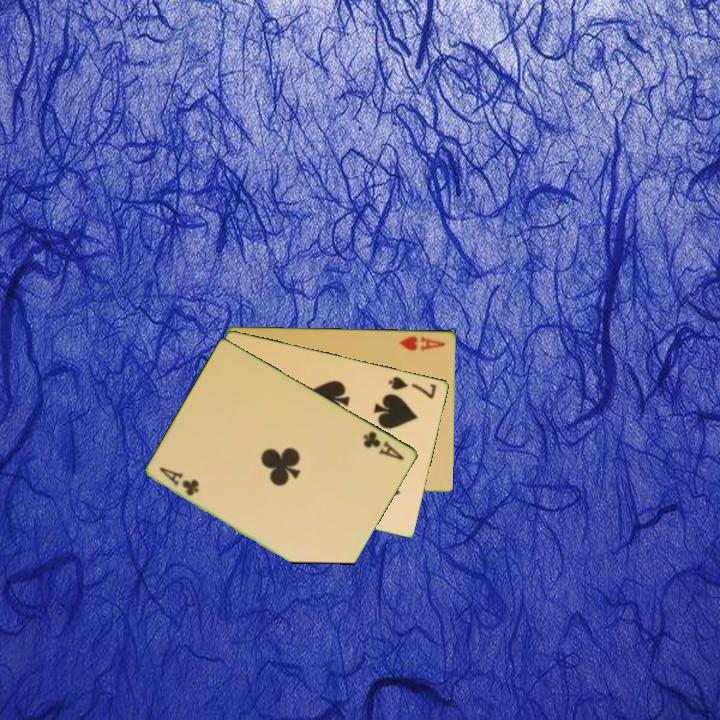7s: (385, 372, 439, 402)
Ac: (360, 427, 407, 463), (156, 463, 202, 499)
Ah: (396, 333, 448, 354)
